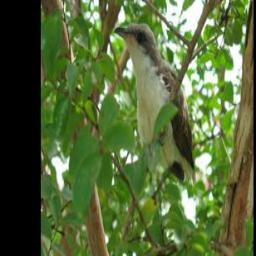Cuckoo: (116, 20, 197, 189)
